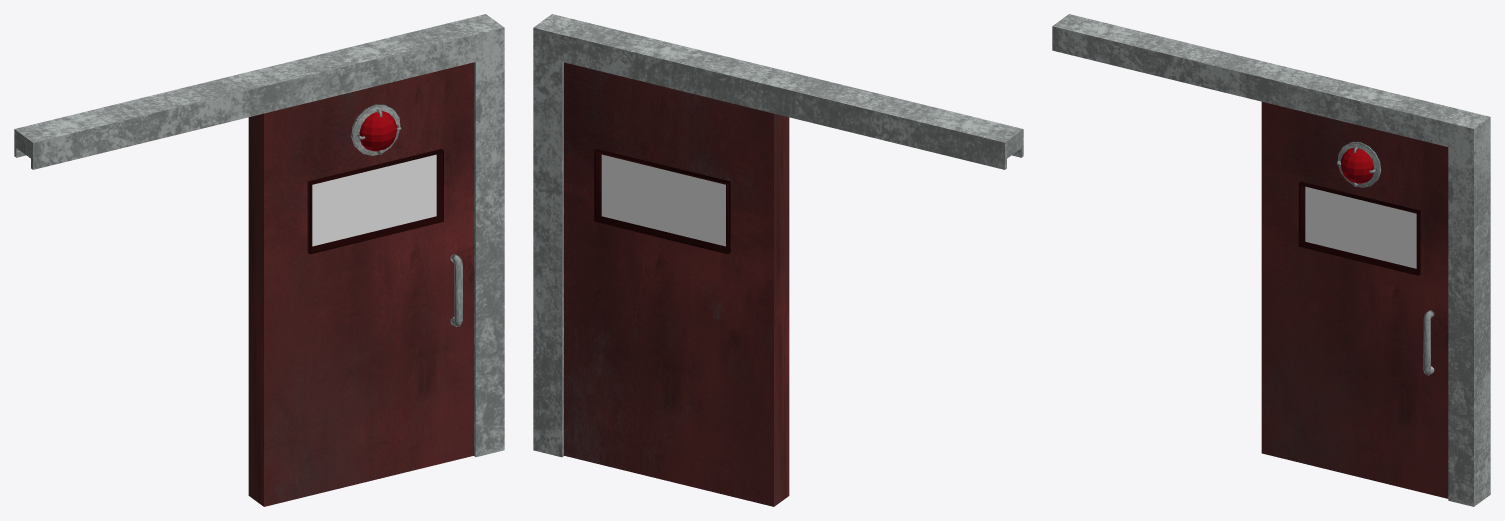
File: door_final_Updatefbx.fbx
The picture shows the model from 3 angles, left to right: view 1: azimuth 30°, elevation 25°; view 2: azimuth 150°, elevation 25°; view 3: azimuth 330°, elevation 25°; orthographic projection. The views are drawn at different scales.
Visible parts, largest first — view 1: Cube.001, Cube; view 2: Cube.001, Cube; view 3: Cube.001, Cube.
Boxes of the visible parts, x1,y1,x2,y2 form: Cube.001: (248, 62, 473, 506); Cube: (14, 14, 504, 456); Cube.001: (564, 62, 789, 506); Cube: (533, 14, 1023, 457); Cube.001: (1261, 102, 1448, 498); Cube: (1052, 14, 1490, 506).
Size of the model in its own units: 281 by 241 by 30.08.
